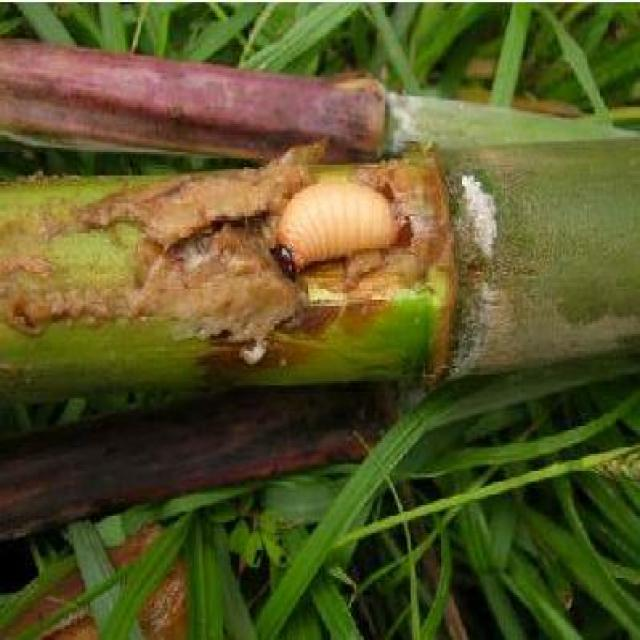Grub-Adult-: (271, 175, 420, 278)
